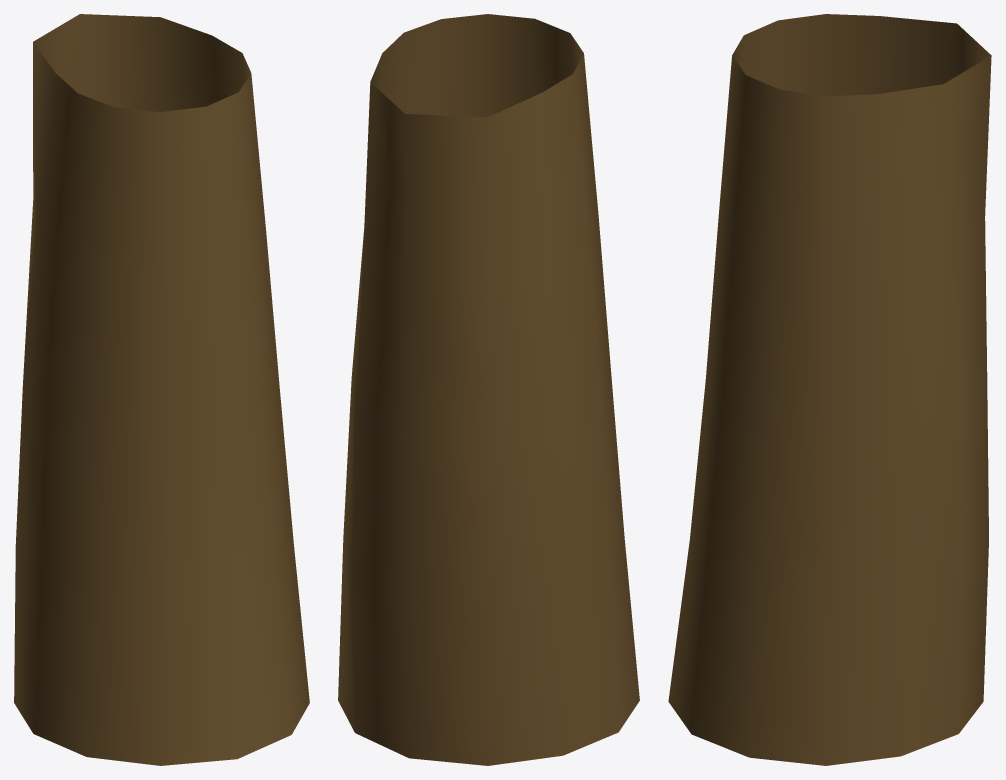
File: mining_outfit_greave.R.glb
The picture shows the model from 3 angles, left to right: view 1: azimuth 30°, elevation 25°; view 2: azimuth 150°, elevation 25°; view 3: azimuth 270°, elevation 25°; orthographic projection. The views are drawn at different scales.
Parts seen in each view (by area): view 1: mining_outfit_greave.R; view 2: mining_outfit_greave.R; view 3: mining_outfit_greave.R.
Part boxes in pixels (<box>): mining_outfit_greave.R: <box>14,14,309,765</box>; mining_outfit_greave.R: <box>338,14,639,765</box>; mining_outfit_greave.R: <box>668,14,991,765</box>.
Size of the model in its own units: 0.16 by 0.3767 by 0.1707.
